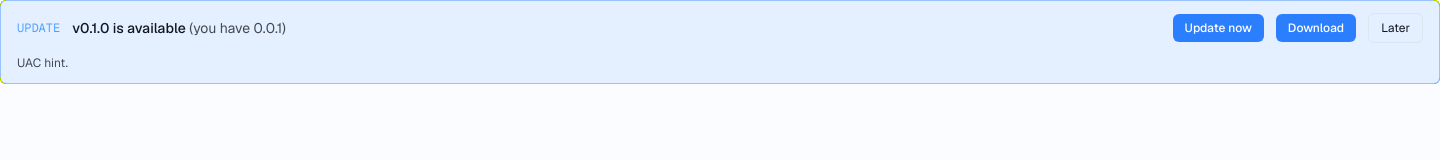
Scenario: UpdateBanner watchdog › shows 'updated' once /api/version reports the new version
Click the button "Update now".
click(1218, 28)  # box left=1173, top=14, right=1264, bottom=42
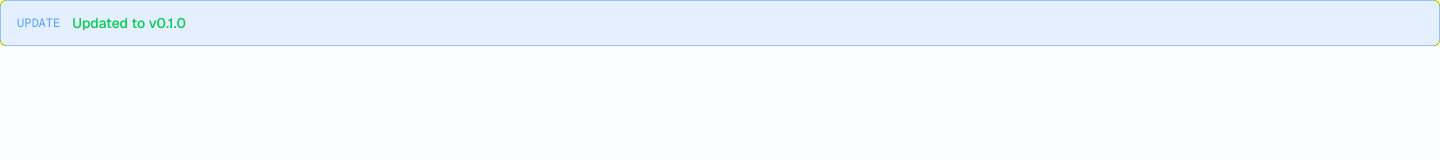
Check: the element with test id "update-banner-applied" is shown, box left=72, top=14, right=186, bottom=32
